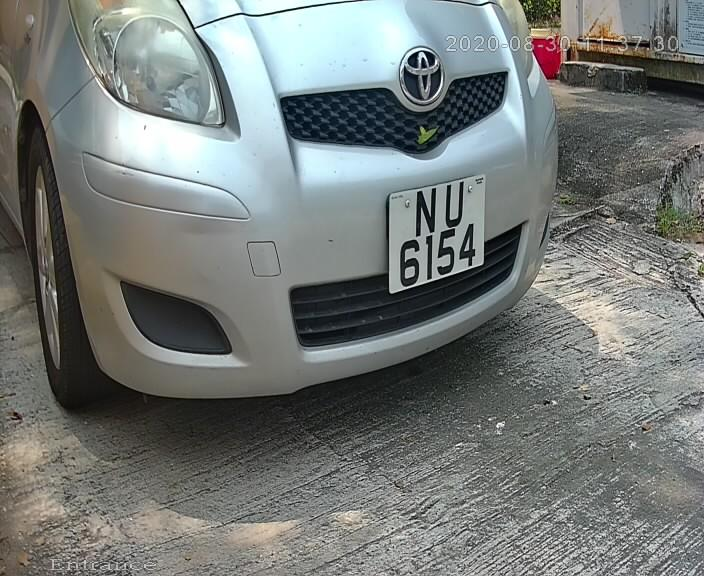License Plate: (381, 165, 491, 307)
